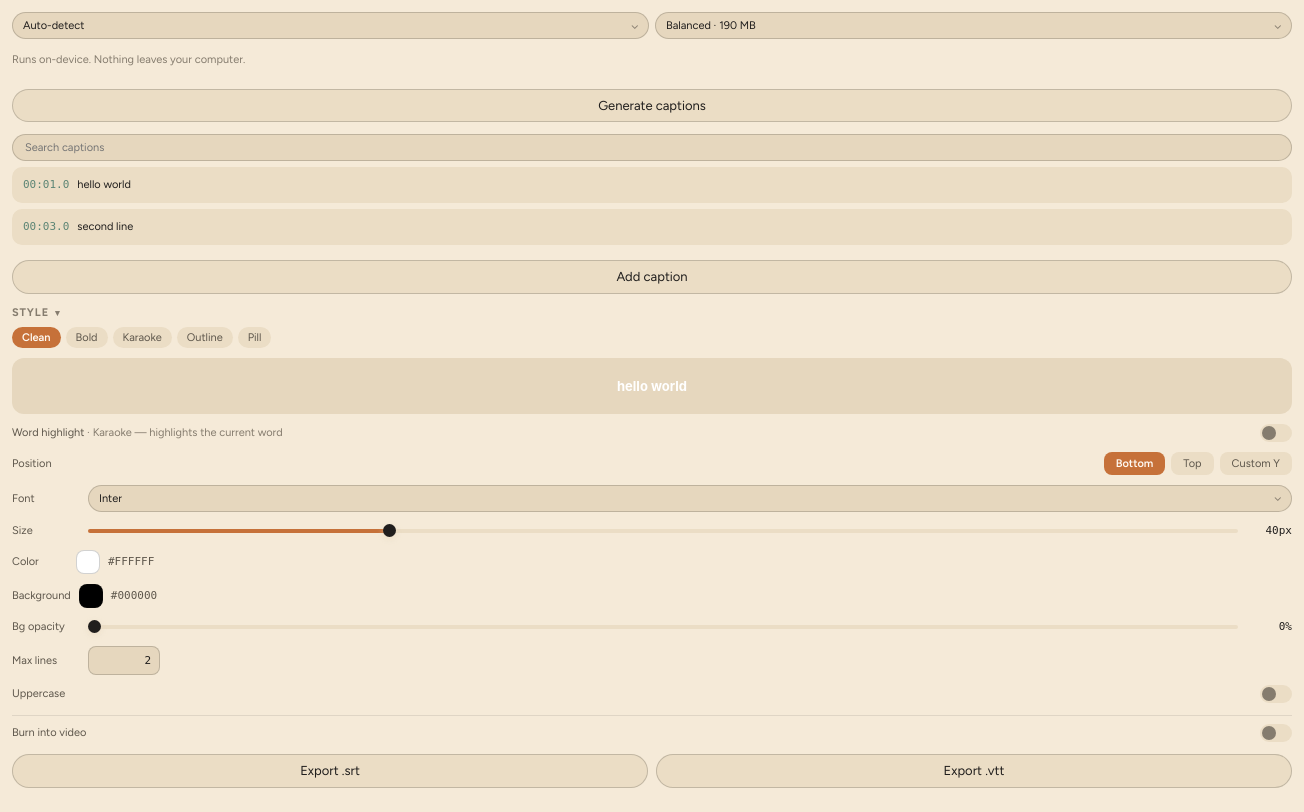
CaptionsInspector — search & add › filters rows and shows a no-match message
The width and height of the screenshot is (1304, 812).
Type "SECOND" into the search field labelled "Search captions".
click(652, 148); type("SECOND")  # box x1=12 y1=134 x2=1292 y2=161
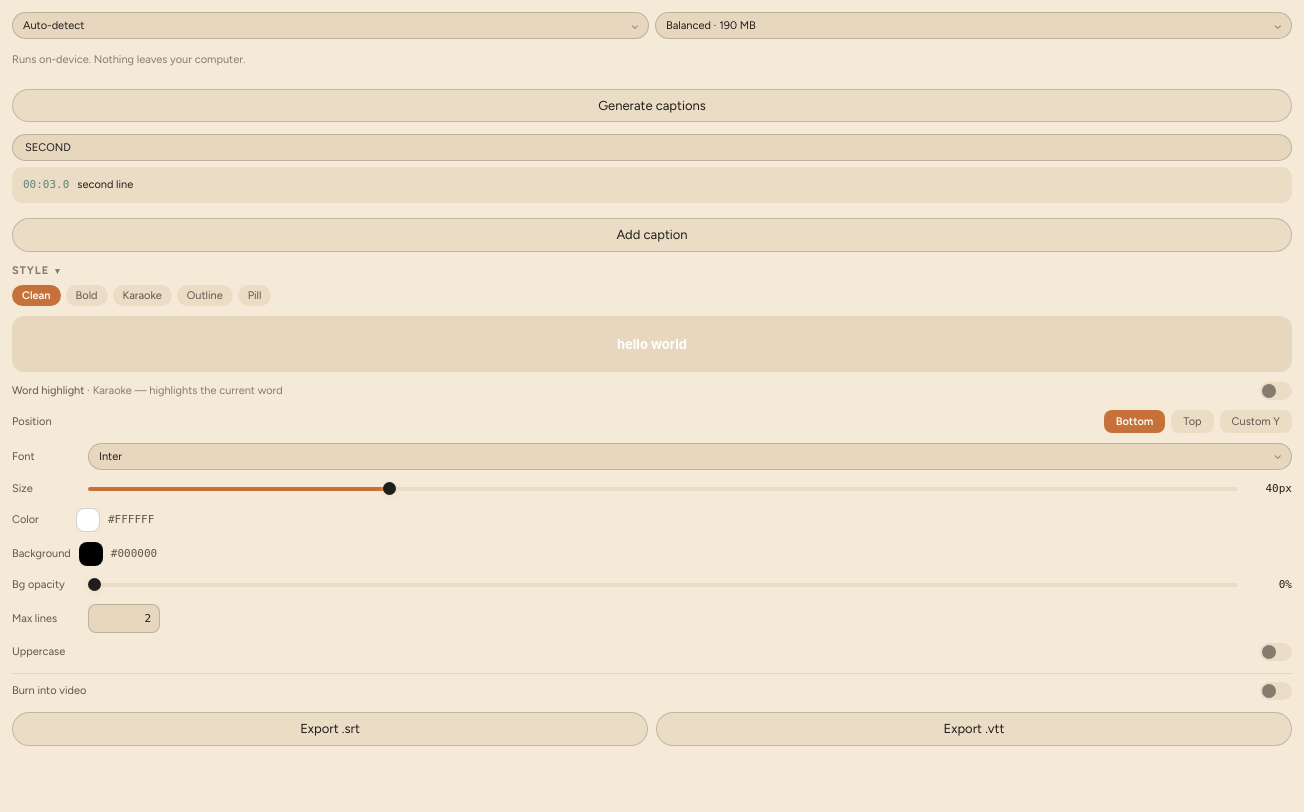
Replace the text in the search field named "Search captions" with "zzz" at (652, 148), box x1=12 y1=134 x2=1292 y2=161
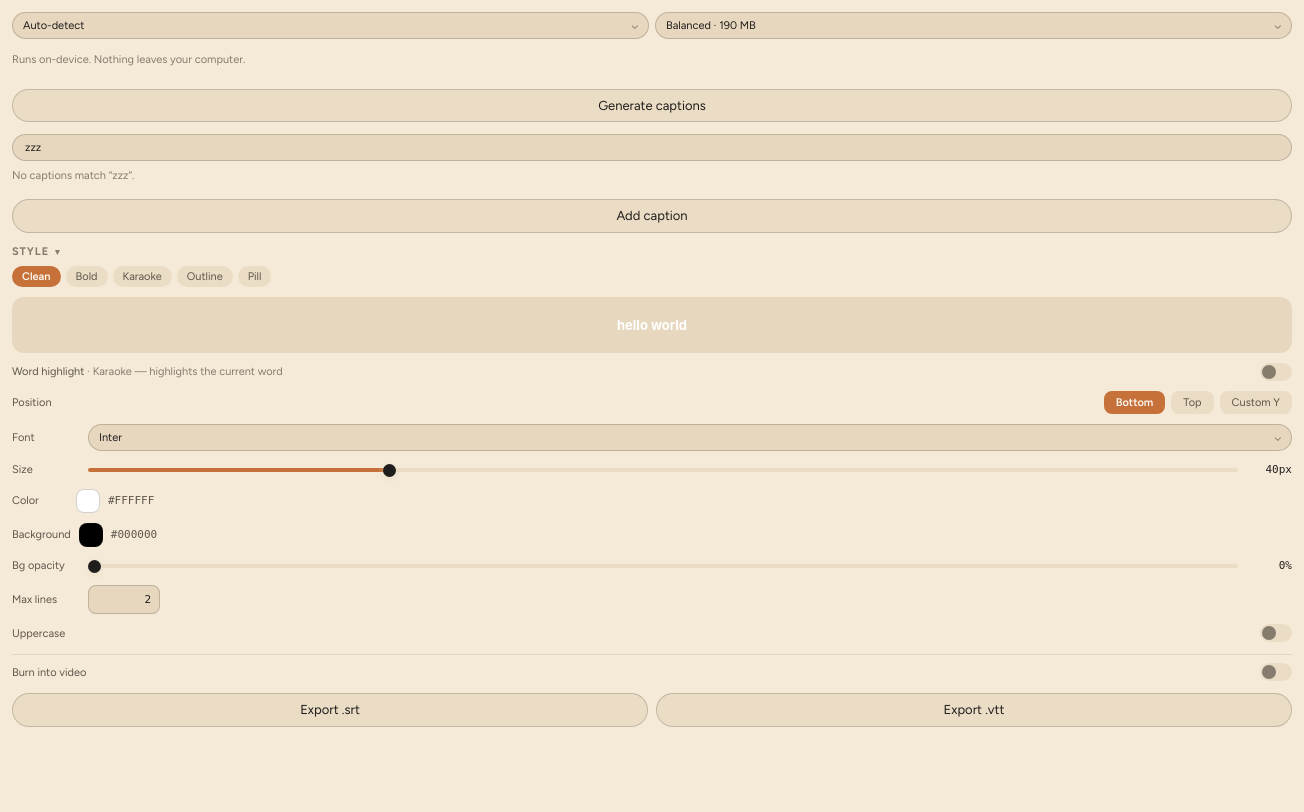
Expected: the list is gone
Expected: the text "No captions match “zzz”." is shown, x1=12 y1=169 x2=134 y2=182
